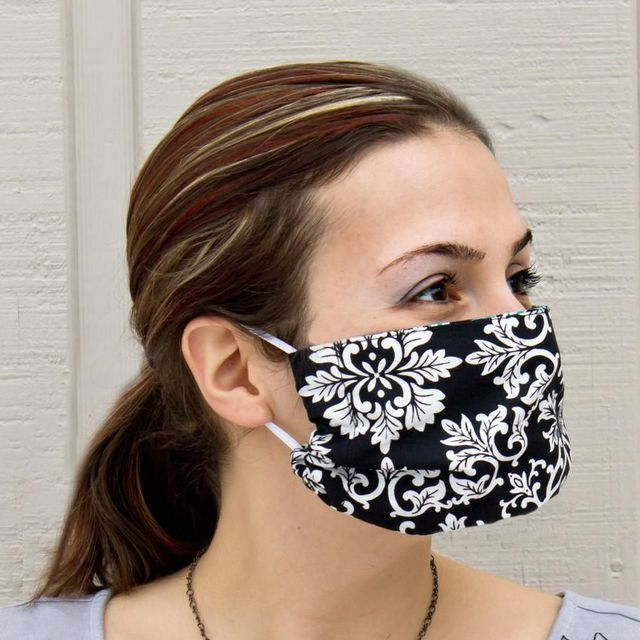mask: (288, 345, 584, 516)
